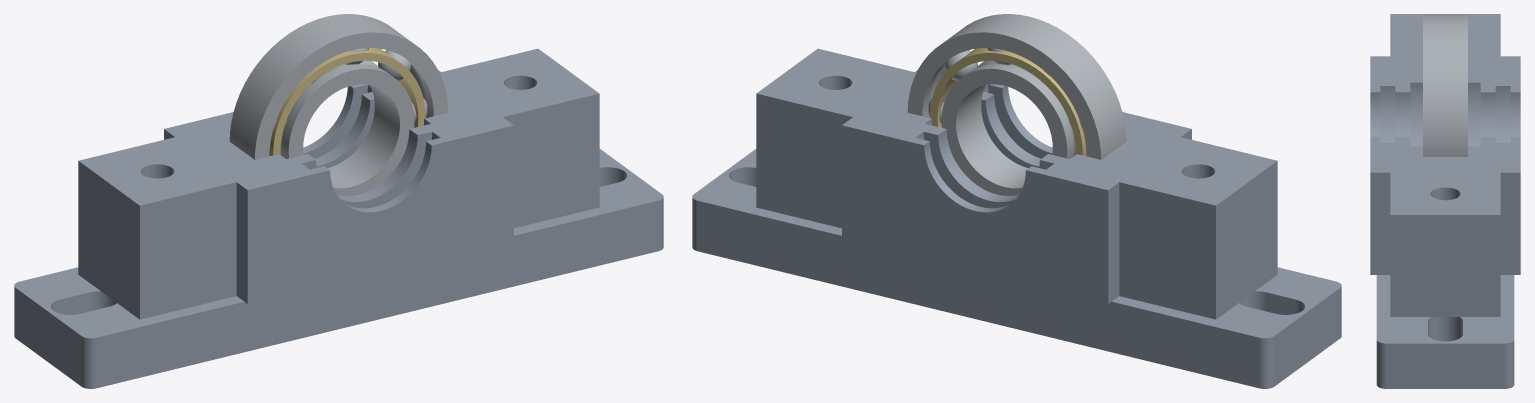
The model's file is step_21.glb.
3 views of the same model, side by side, from view 1: azimuth 30°, elevation 25°; view 2: azimuth 150°, elevation 25°; view 3: azimuth 270°, elevation 25° (orthographic). The views are drawn at different scales.
Parts seen in each view (by area): view 1: part__housing base, part__bearing outer ring, part__bearing inner ring, part__bearing cage; view 2: part__housing base, part__bearing outer ring, part__bearing inner ring, part__bearing cage; view 3: part__housing base, part__bearing outer ring.
Boxes of the visible parts, box(x1,y1,x2,y2) form: part__housing base: box(14, 48, 663, 388); part__bearing outer ring: box(229, 14, 448, 159); part__bearing inner ring: box(280, 60, 414, 195); part__bearing cage: box(269, 48, 425, 156); part__housing base: box(692, 48, 1341, 388); part__bearing outer ring: box(907, 14, 1126, 159); part__bearing inner ring: box(941, 60, 1075, 195); part__bearing cage: box(930, 48, 1086, 156); part__housing base: box(1370, 14, 1520, 388); part__bearing outer ring: box(1423, 14, 1467, 156).
Size of the model in its own units: 240 by 105 by 60.
